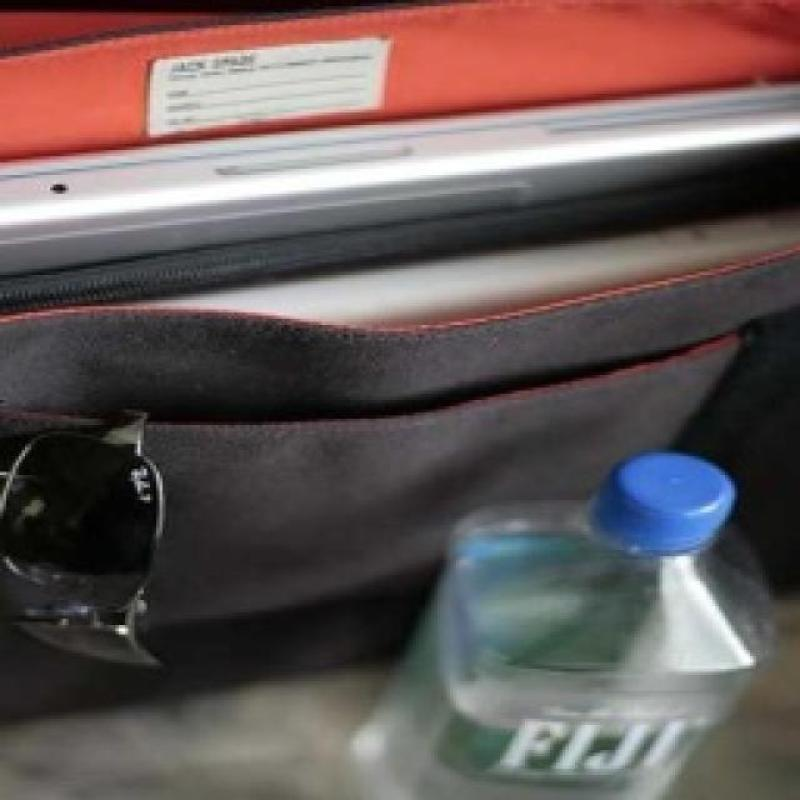botella: (353, 450, 772, 800)
